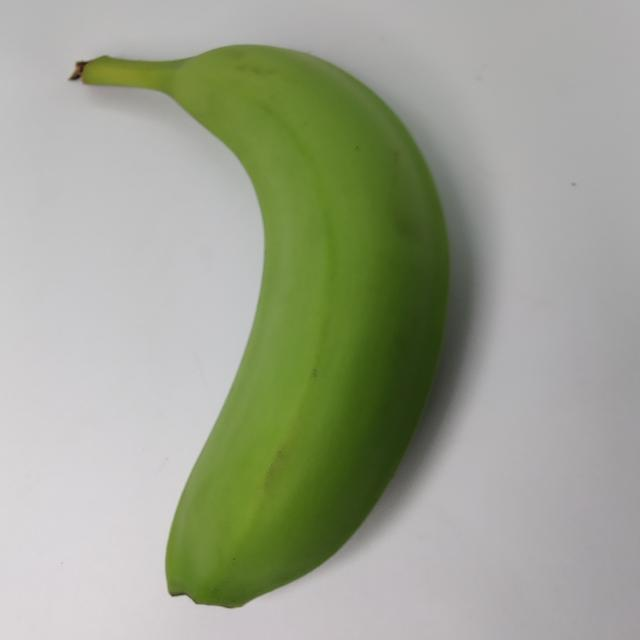raw: (0, 13, 501, 620)
